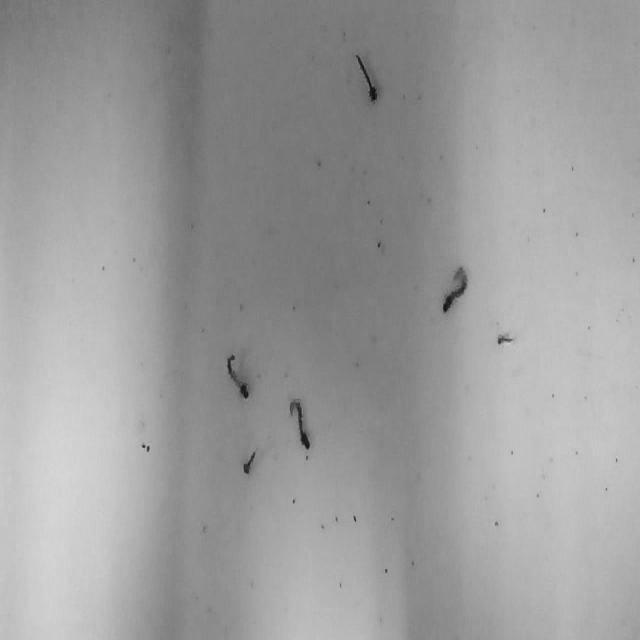larvas: (442, 264, 468, 313), (354, 52, 378, 104), (288, 398, 310, 450), (226, 353, 250, 399), (242, 450, 256, 474), (496, 334, 514, 347)
